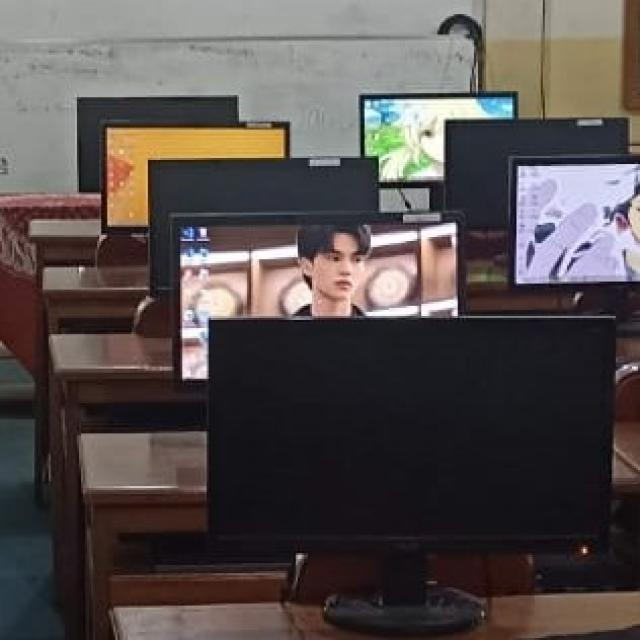offscreen: (210, 318, 612, 551), (150, 161, 376, 292), (446, 121, 628, 228), (79, 98, 238, 192)
onscreen: (176, 212, 458, 379), (106, 126, 285, 227), (511, 156, 640, 285), (361, 94, 516, 182)
